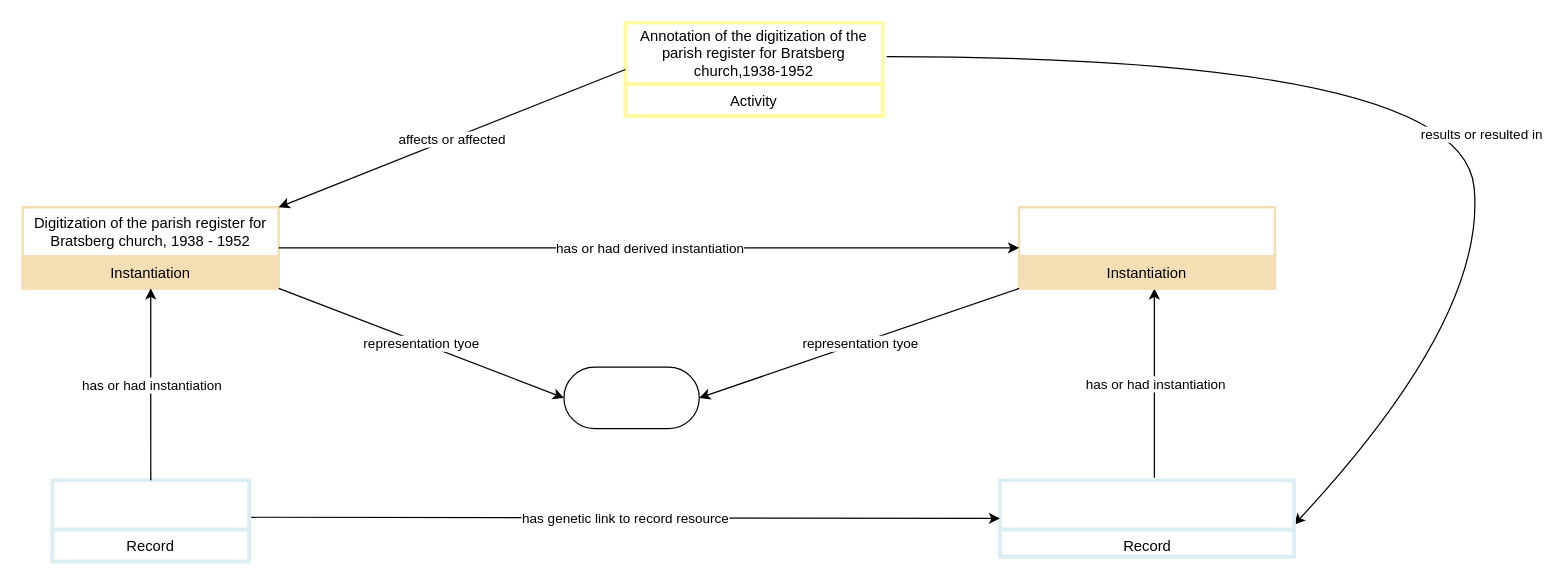
Image size: 1563x587. Some labels were removed from this diagram. Each missing label, with the box of its shape:
Annotated digitization of the parish register for Bratsberg church, 1938 - 1952: (1017, 205, 1276, 289)
Annotated parish register for Bratsberg church, 1938-1952: (998, 478, 1295, 558)
Digital: (563, 366, 699, 429)
Parish register for Bratsberg church, 1938-1952: (50, 478, 250, 563)
